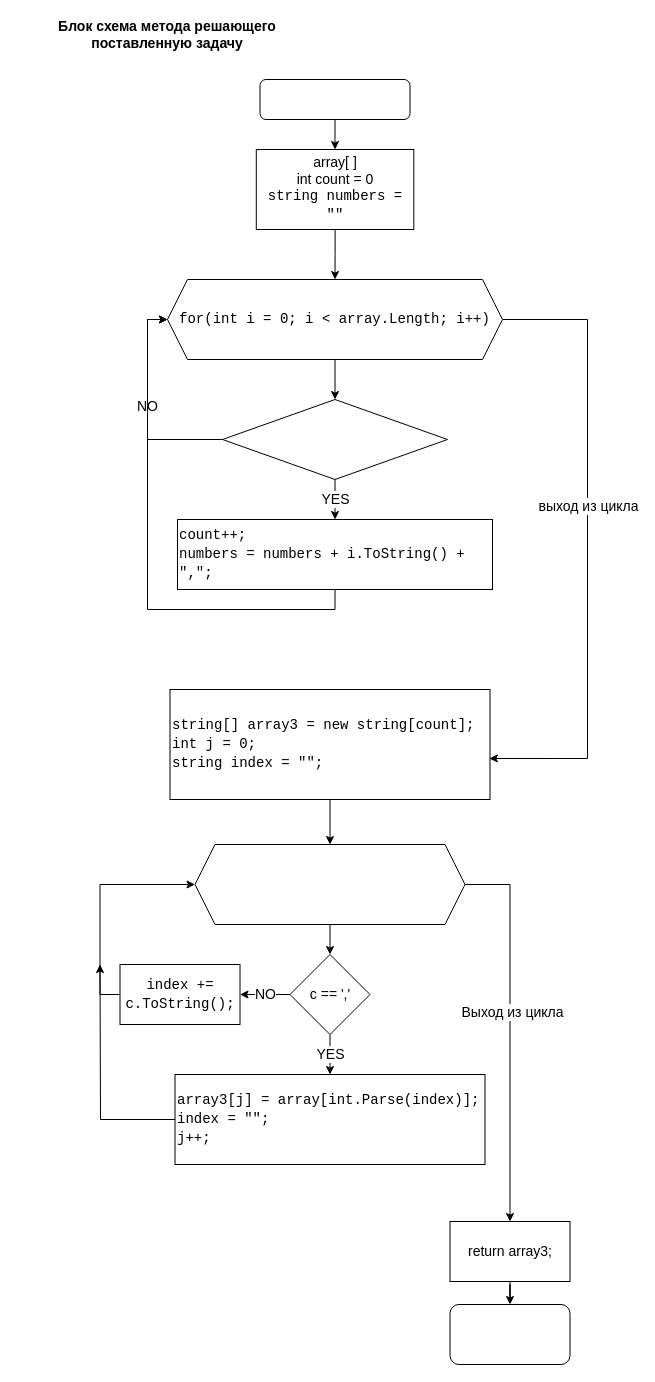
This 655x1382 diagram has some shape labels left out. The shapes that lost their labels are listed below. From the top down, each one's centre as x and y in pixels, then its label:
point (334, 99): Start ArrayLenNoMore3
point (335, 439): array[i].Length <= 3
point (329, 884): foreach(char c in numbers)
point (509, 1334): Finish
